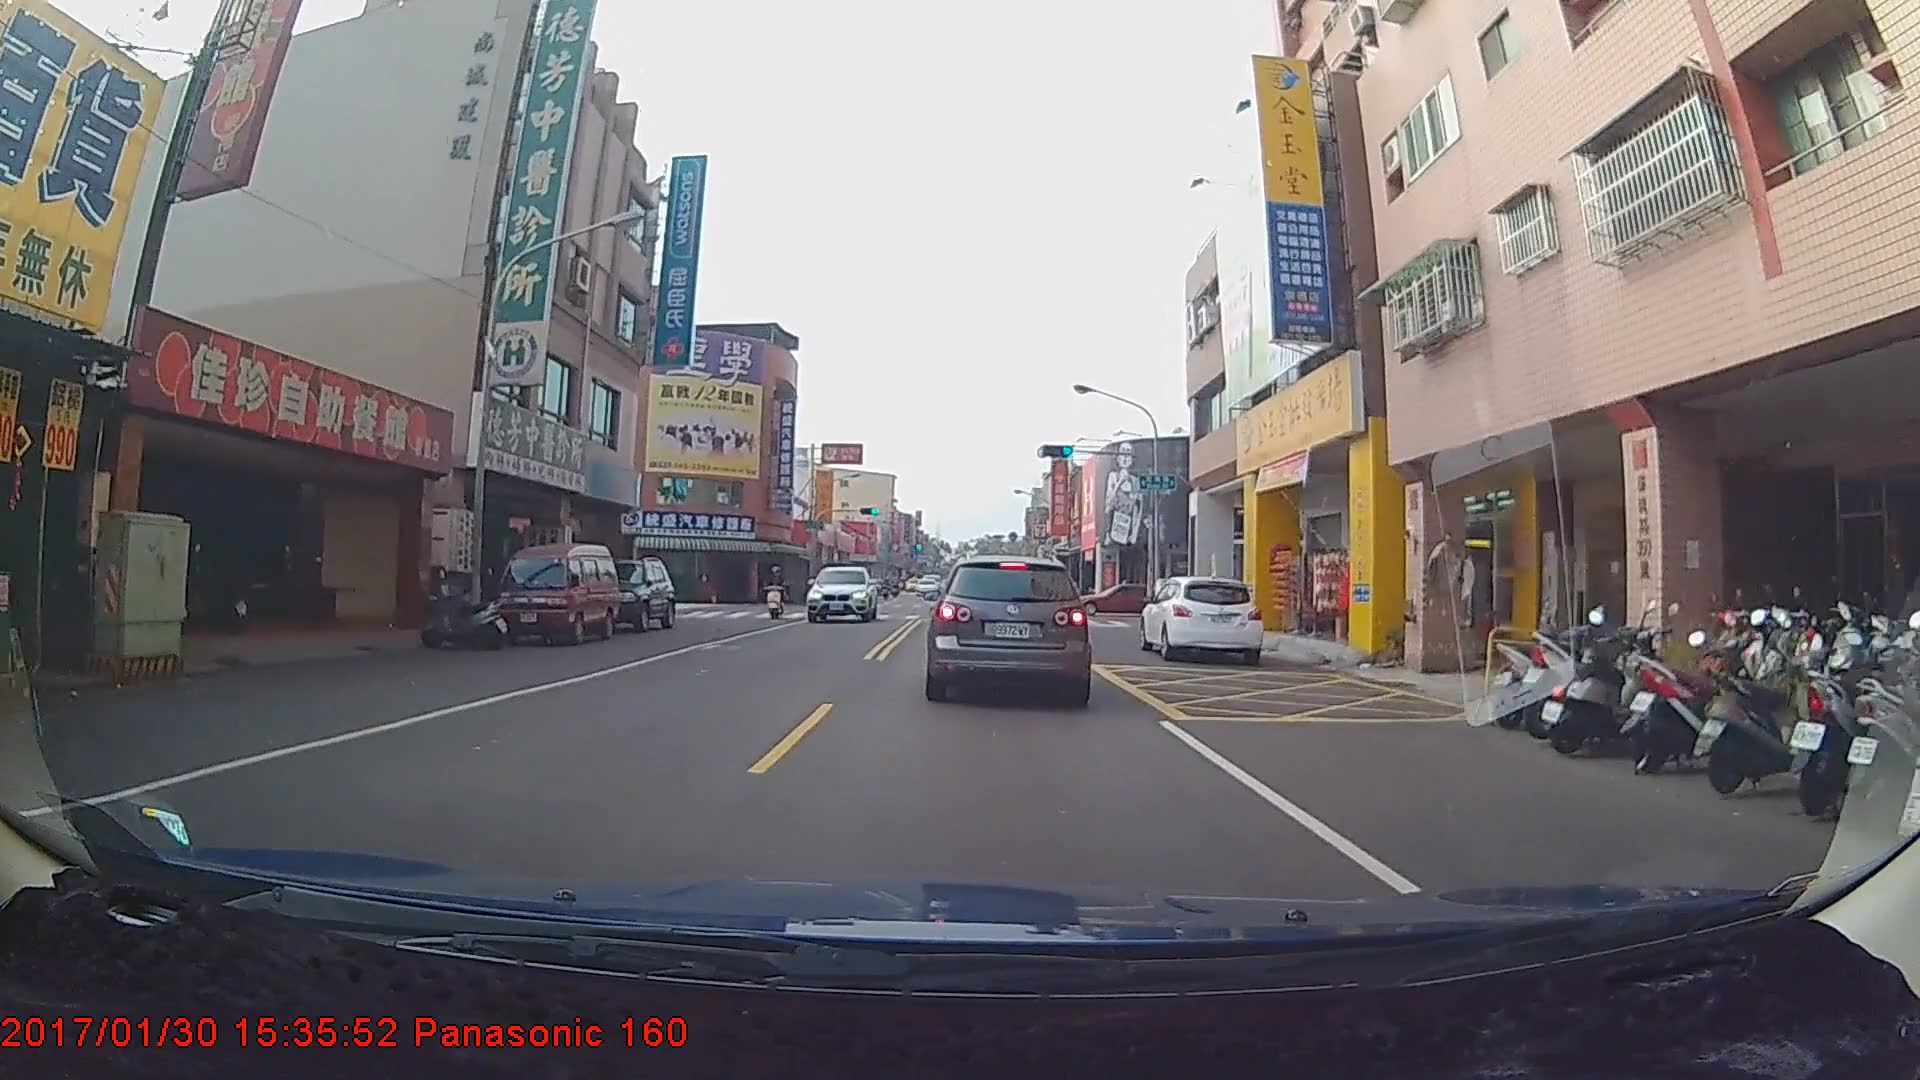rider: (761, 567, 795, 625)
vehicle: (926, 551, 1090, 701), (496, 546, 619, 647), (1140, 572, 1262, 663), (573, 551, 676, 632), (807, 562, 877, 623), (1067, 583, 1173, 614), (915, 578, 939, 598)
